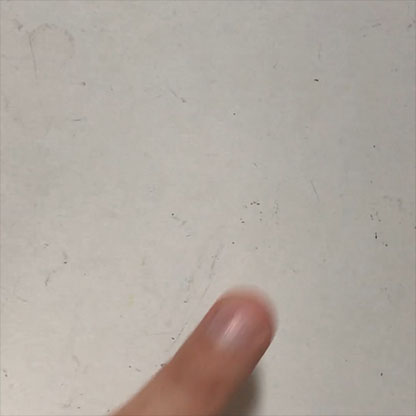fingertip: (199, 278, 296, 367)
